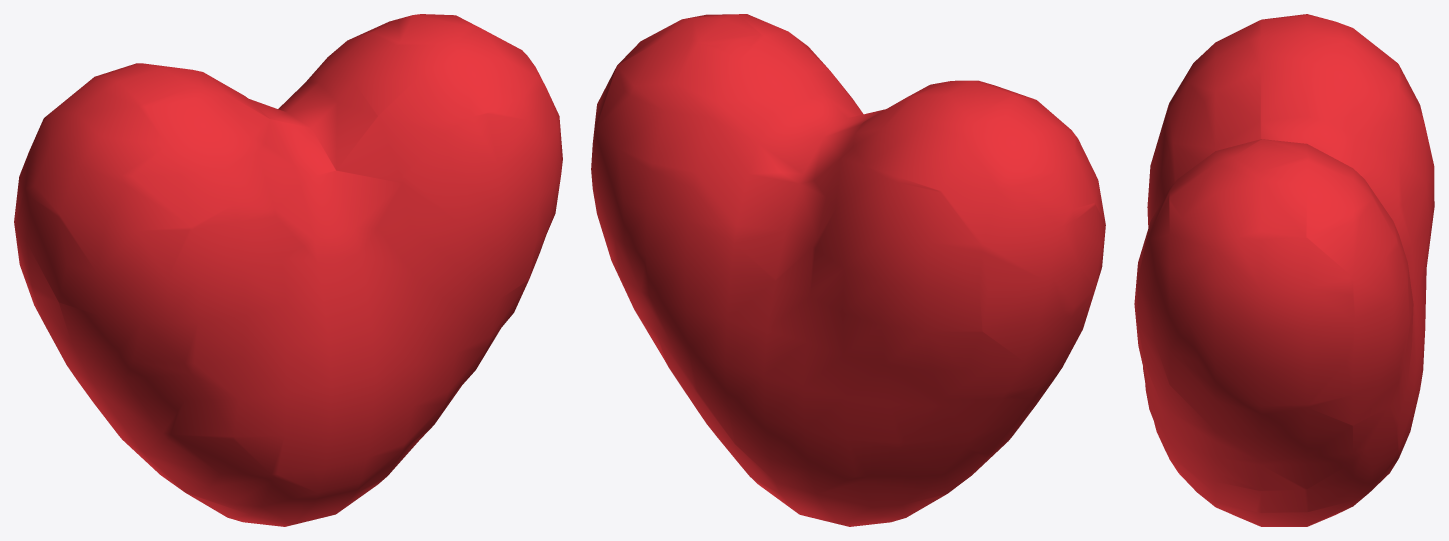
Rendered from heart.fbx.
3 views of the same model, side by side, from view 1: azimuth 30°, elevation 25°; view 2: azimuth 150°, elevation 25°; view 3: azimuth 270°, elevation 25° (orthographic). The views are drawn at different scales.
Parts seen in each view (by area): view 1: Mball; view 2: Mball; view 3: Mball.
Part boxes in pixels (x1,y1,x2,y2): Mball: (14, 14, 562, 526); Mball: (591, 14, 1105, 526); Mball: (1134, 14, 1434, 526).
Bounding box in the file's own units: 212 × 186 × 117.
